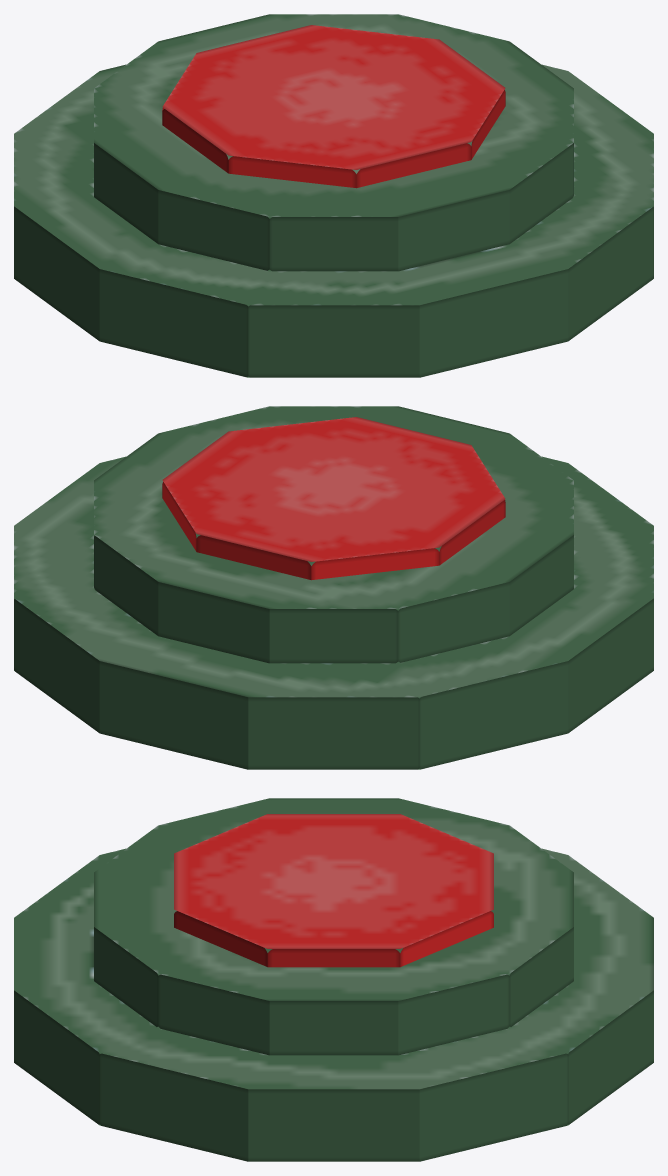
Rendered from Mine.fbx.
The picture shows the model from 3 angles, top to bottom: view 1: azimuth 30°, elevation 25°; view 2: azimuth 150°, elevation 25°; view 3: azimuth 270°, elevation 25°; orthographic projection.
Visible parts, largest first — view 1: cylinder, cylinder_1; view 2: cylinder, cylinder_1; view 3: cylinder, cylinder_1.
Boxes of the visible parts, left/top/right/bottom form: cylinder: left=14, top=14, right=653, bottom=377; cylinder_1: left=162, top=25, right=505, bottom=188; cylinder: left=14, top=406, right=653, bottom=769; cylinder_1: left=162, top=417, right=505, bottom=580; cylinder: left=14, top=798, right=653, bottom=1161; cylinder_1: left=174, top=814, right=493, bottom=967.
Size of the model in its own units: 100 by 25 by 100.
1 material, 1 textured.
